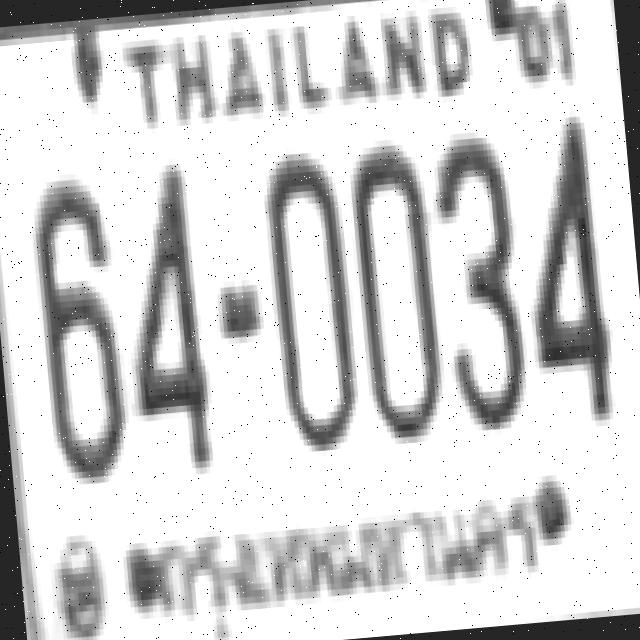0: (255, 144, 358, 448), (343, 136, 442, 440)
3: (429, 129, 527, 426)
4: (514, 109, 612, 418), (112, 158, 210, 466)
6: (27, 170, 126, 480)
Bangkok: (141, 479, 551, 624)
